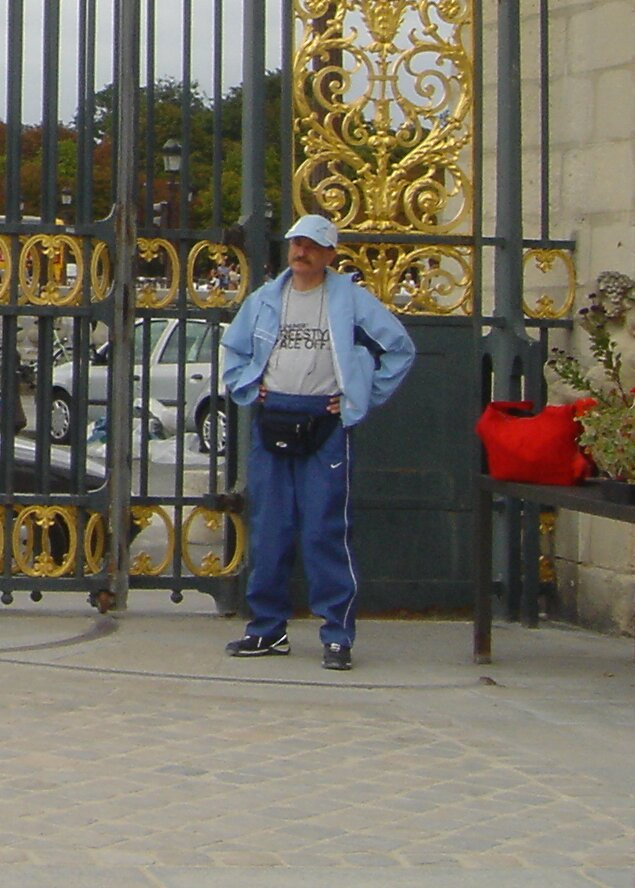person: (213, 216, 385, 678)
